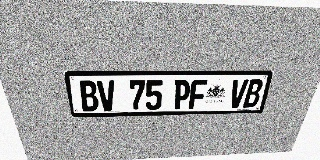5: (146, 80, 163, 110)
7: (128, 80, 145, 110)
B: (242, 79, 264, 108), (78, 81, 99, 111)
F: (189, 80, 208, 109)
P: (173, 80, 191, 109)
V: (96, 80, 116, 111), (228, 79, 249, 108)
